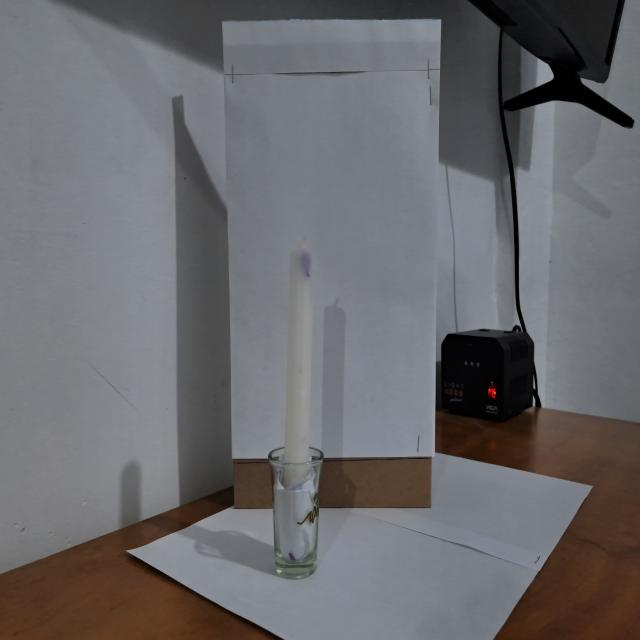candle: (265, 218, 329, 583)
wall: (217, 0, 445, 513)
